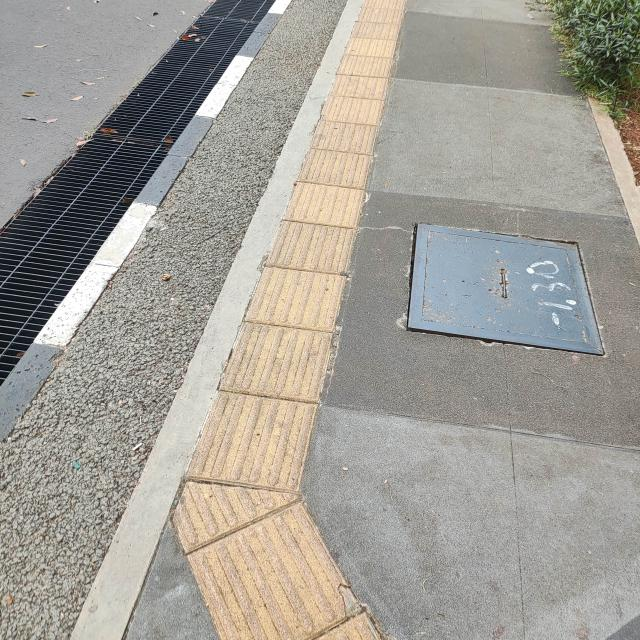lurus: (258, 22, 366, 472)
